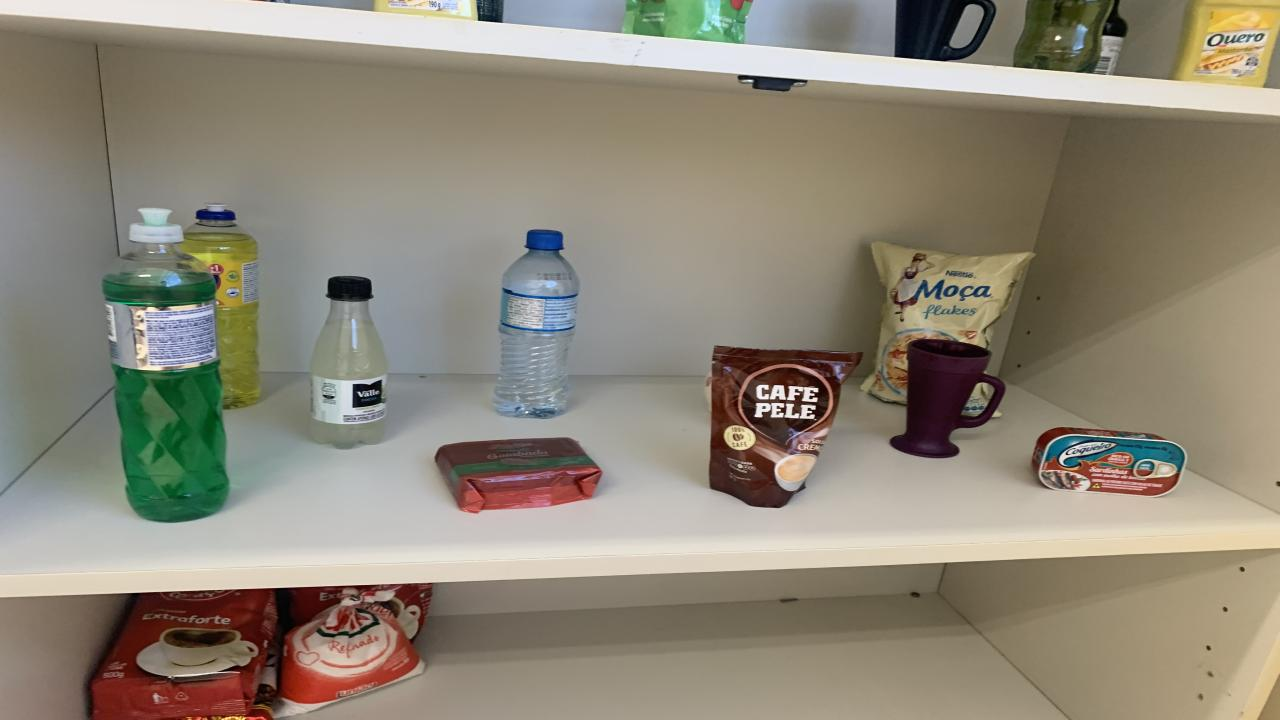Coffee-Pantry_Items: (710, 345, 860, 508)
Detergent-Cleanup_Items: (102, 208, 230, 521), (180, 204, 260, 409)
English_Sauce-Pantry_Items: (1095, 0, 1128, 75)
Flakes-Snacks: (860, 242, 1032, 403)
Guarana-Drinks: (1012, 0, 1112, 73)
Guava-Snacks: (435, 437, 602, 512)
Mustard-Pantry_Items: (1170, 0, 1280, 86), (375, 0, 478, 21)
Soda-Drinks: (310, 276, 388, 448)
Tomato_Sauce-Pantry_Items: (622, 0, 752, 43)
Tuna_Can-Pantry_Items: (1032, 428, 1188, 497)
Water_Bottle-Drinks: (495, 231, 580, 418)
